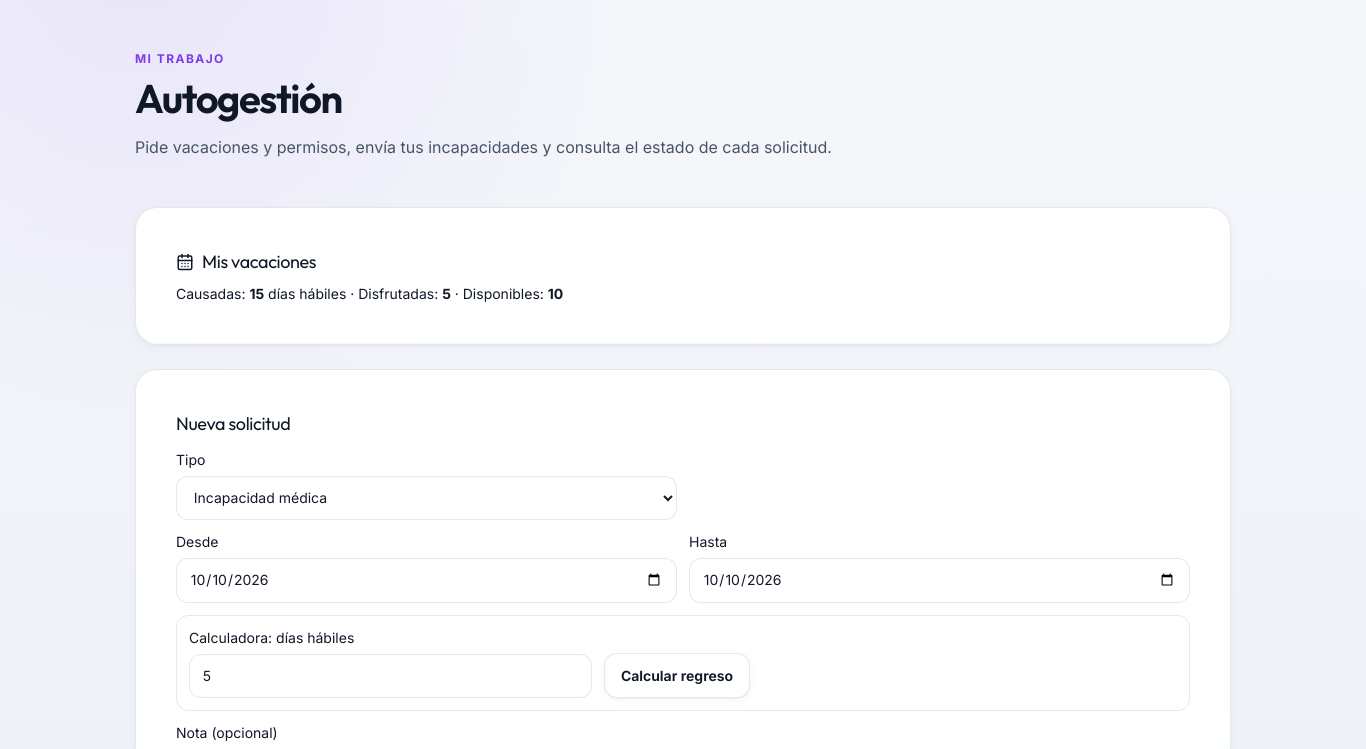
Test: a medical leave cannot be sent without the photo and uploads it first
Later steps or results of the test are not shown.
Select "Incapacidad médica" in the dropdown with test id "request-kind" at (426, 498), box [176,476,677,520]
(page scrolled)
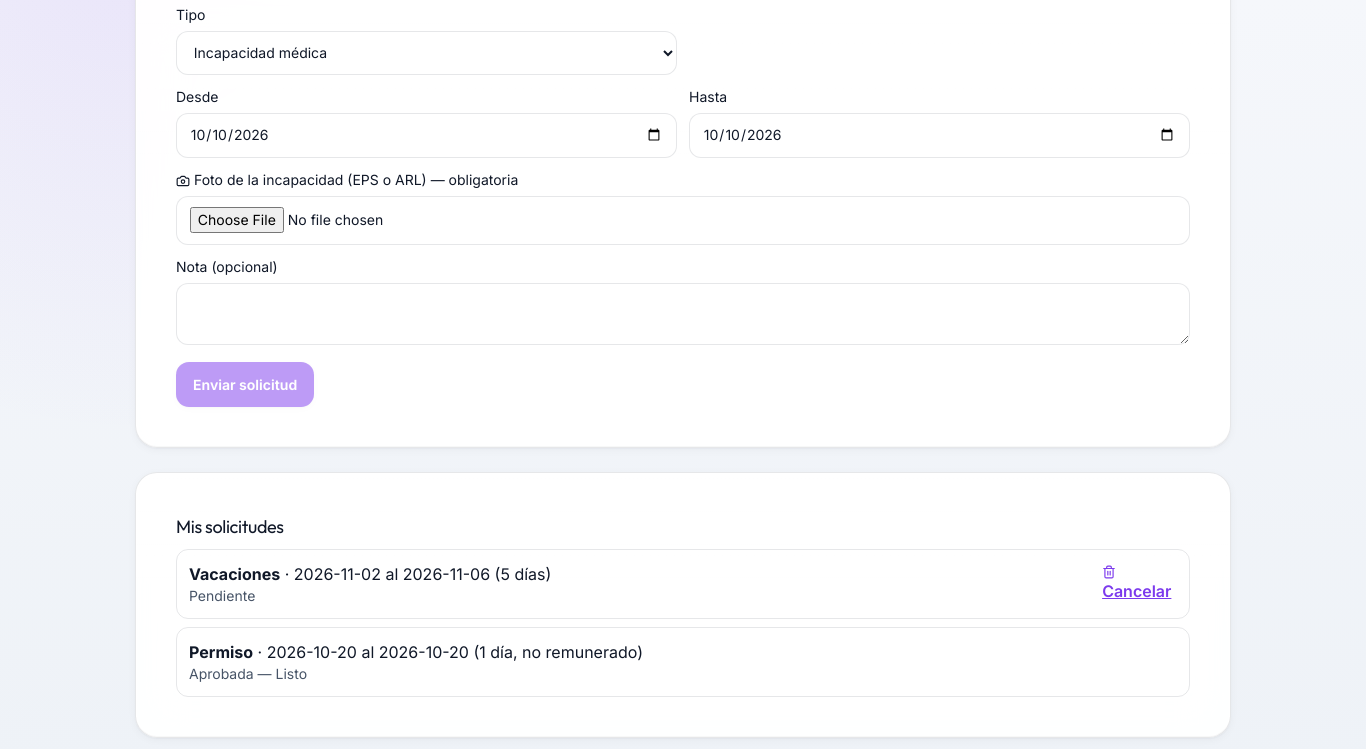
Now the button with test id "request-submit" is disabled, box [176,362,314,407]
